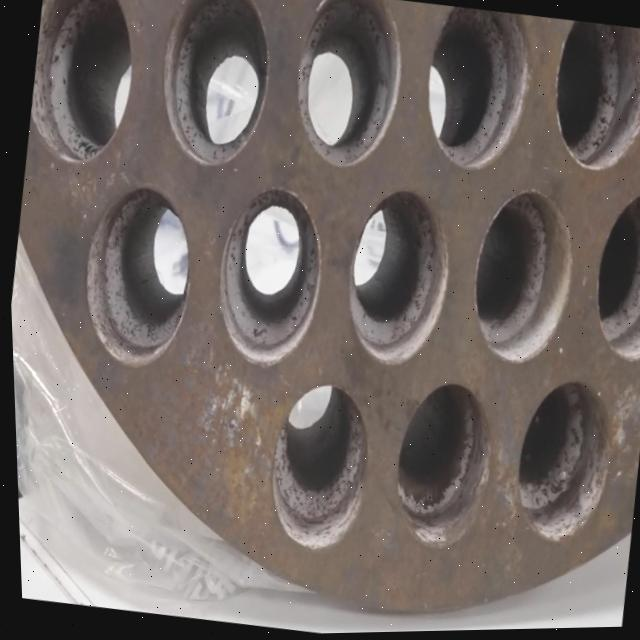Hole: (68, 178, 201, 374), (202, 178, 332, 373), (333, 182, 459, 373), (458, 183, 583, 373), (147, 0, 283, 174), (282, 0, 411, 175), (411, 4, 539, 179), (254, 376, 376, 559), (378, 375, 499, 556), (20, 0, 149, 169), (501, 374, 618, 550), (541, 19, 640, 179), (581, 187, 640, 367)
